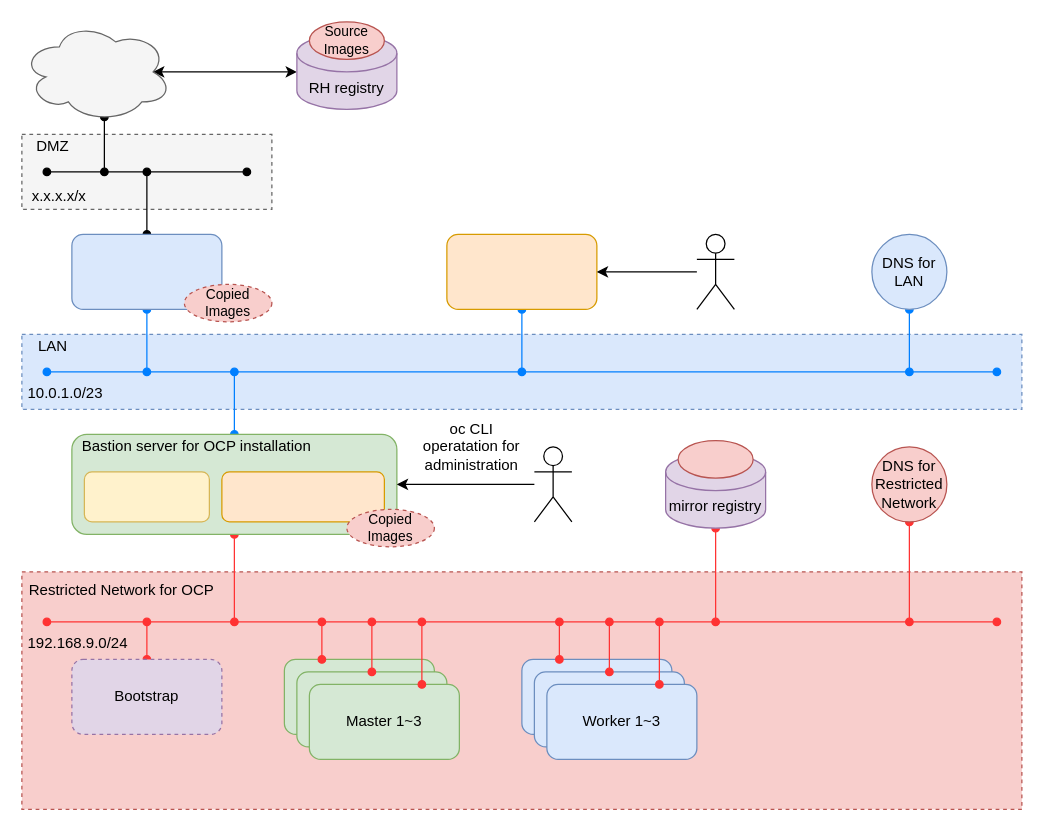
Some shapes in this 1044 by 831 pixel diagram are drawn without their labels. Each missing label, with the centre of its shape:
"HAProxy as LB" goes at pixel 146 496.
"Host for downloading images" goes at pixel 146 271.
"httpd as bios and ignition provider" goes at pixel 302 496.
"Internet" goes at pixel 96 71.
"Mirrored Images" goes at pixel 715 458.
"Work Station to access the OCP console or API from LAN" goes at pixel 521 271.
